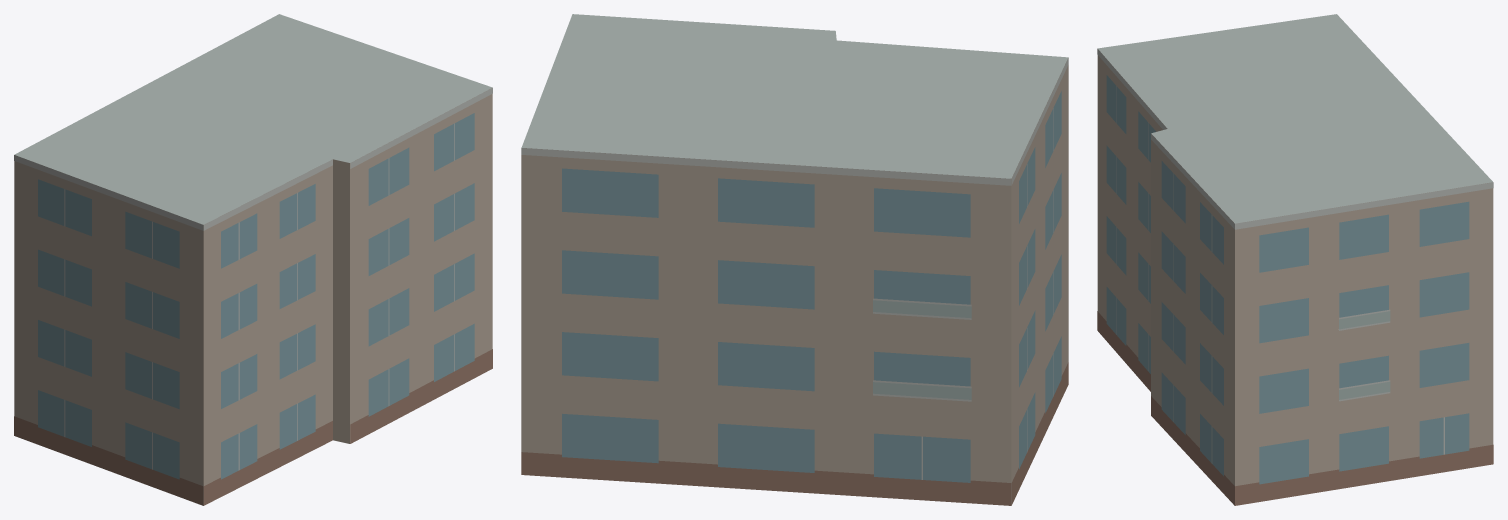
The model's file is survey-upis-32958816.glb.
3 renders of one model, left to right at view 1: azimuth 30°, elevation 25°; view 2: azimuth 150°, elevation 25°; view 3: azimuth 270°, elevation 25°, orthographic. The views are drawn at different scales.
Visible parts, largest first — view 1: survey-upis-32958816.tmp; view 2: survey-upis-32958816.tmp; view 3: survey-upis-32958816.tmp.
Boxes of the visible parts, left/top/right/bottom form: survey-upis-32958816.tmp: left=14, top=14, right=492, bottom=505; survey-upis-32958816.tmp: left=521, top=14, right=1068, bottom=505; survey-upis-32958816.tmp: left=1097, top=14, right=1493, bottom=505.
Bounding box in the file's own units: 18.02 × 11.3 × 14.38.
